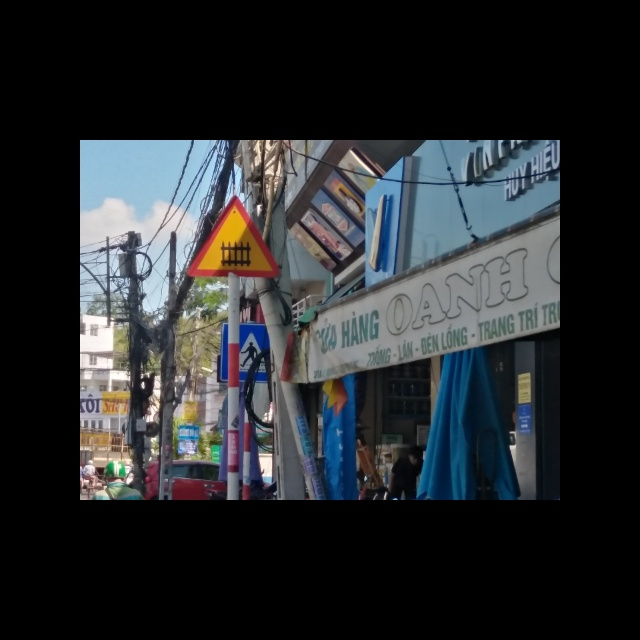Giao nhau với đường sắt có rào chắn: (185, 198, 278, 280)
